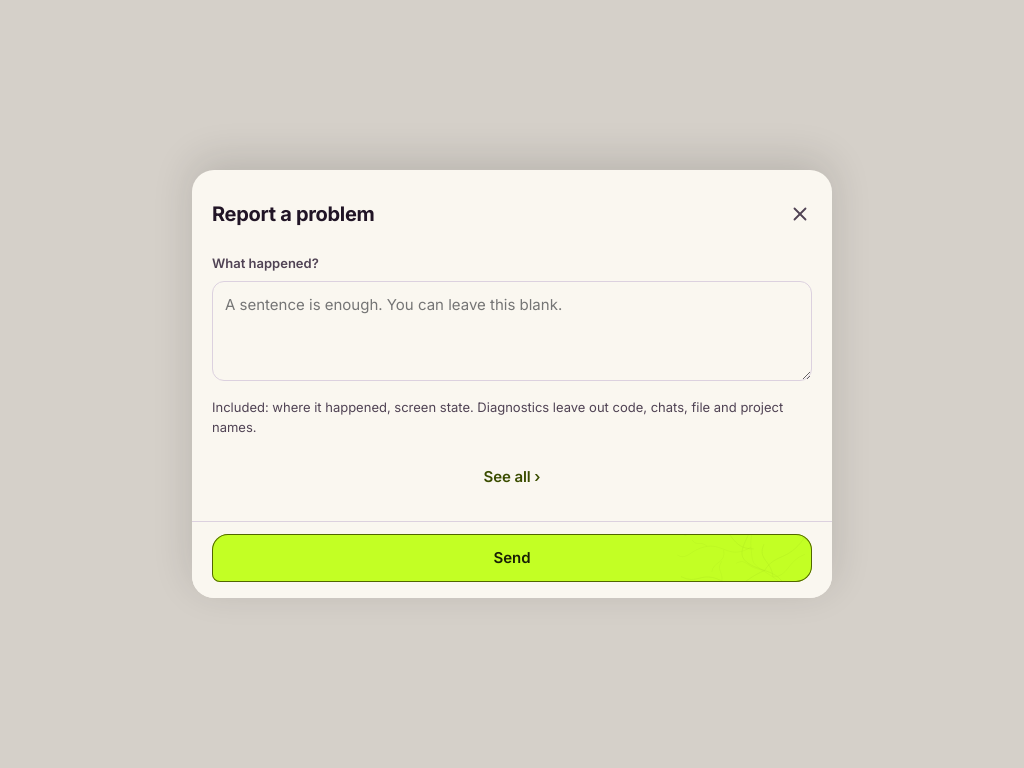
Test: keeps Allow unanswered if the requested extra was switched off before sending
Click the button "Send". click: {"x": 512, "y": 558}
box: [212, 534, 812, 582]
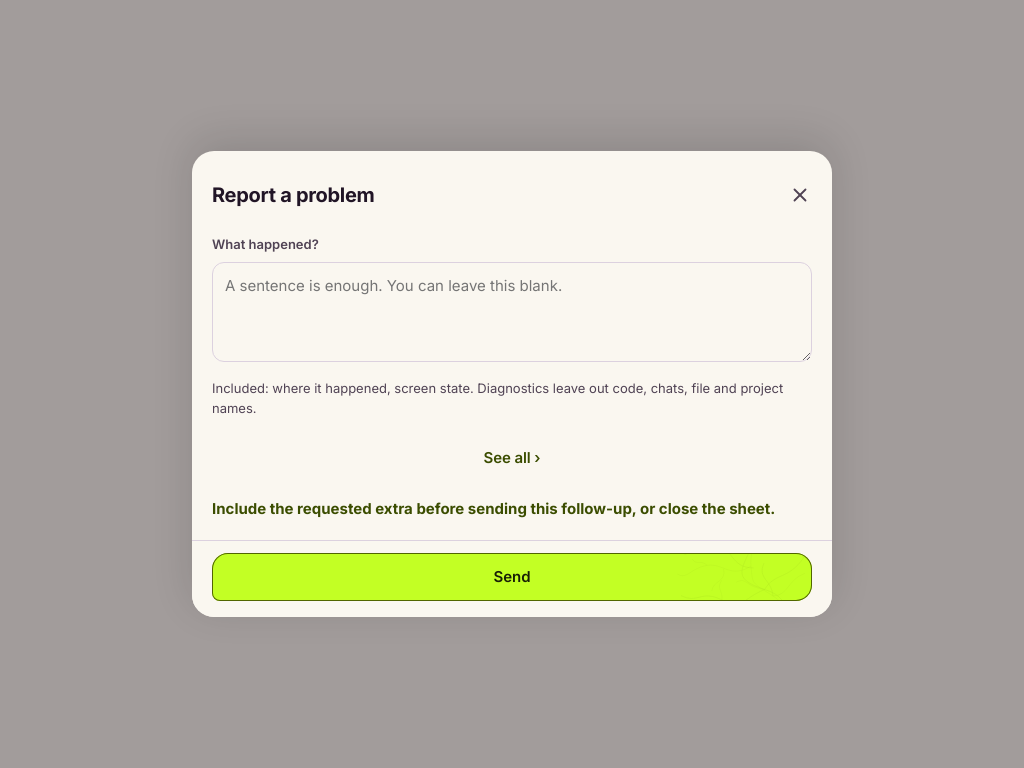
Check: the text "Include the requested extra before sending this follow-up, or close the sheet." is shown, box [212, 498, 812, 520]
